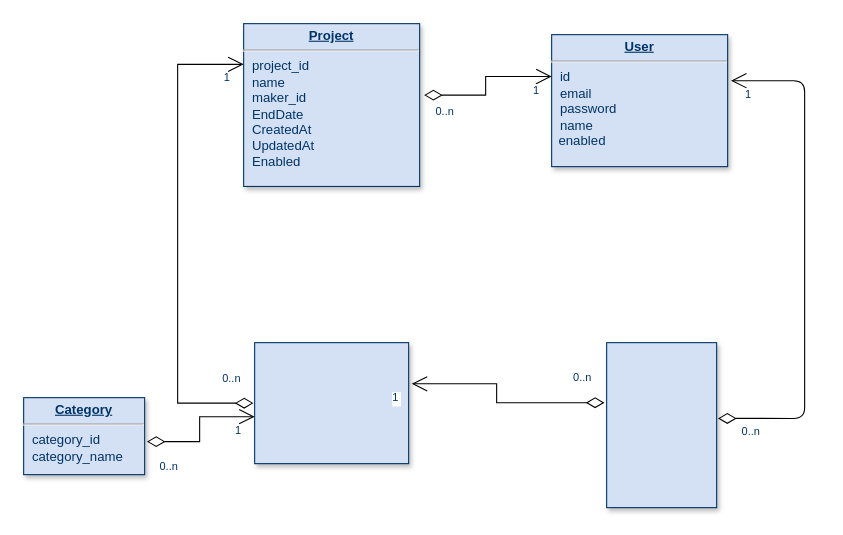
The diagram is 843 pixels wide and 535 high, and some of its shapes have lost their labels. The centre of each missing label's shape, as x and y in pixels:
Estimate estimate_id detail_id contract_id unit_price: point 662,426
ProjectDetail detail_id project_id category_id item_name unit_num: point 332,404
